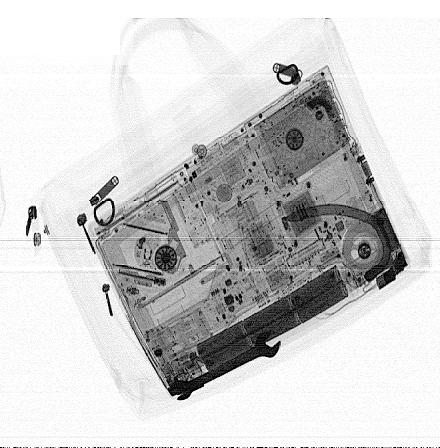Wrench: (167, 330, 282, 400)
